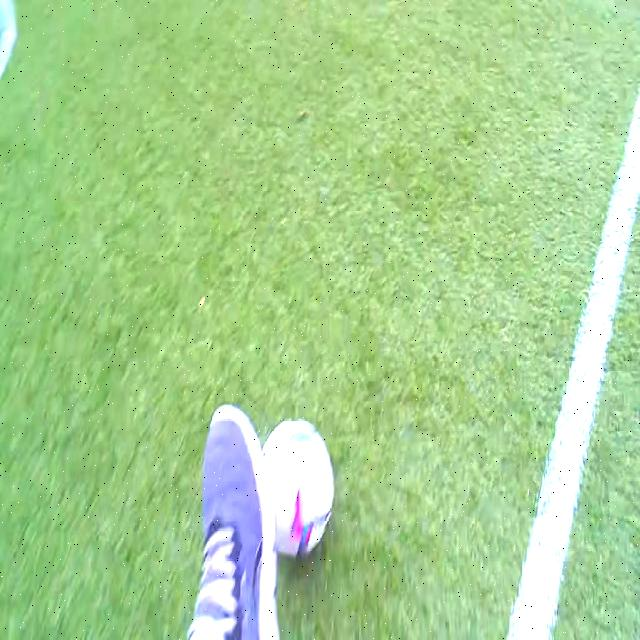ball: (262, 416, 335, 558)
